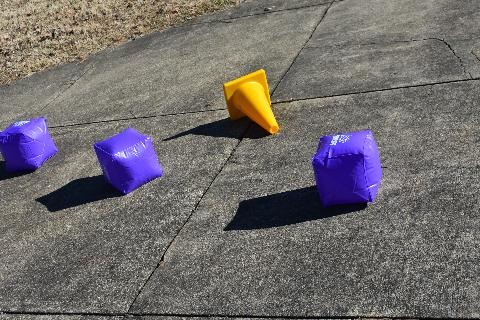cone: (222, 68, 280, 134)
cube: (311, 129, 383, 207), (93, 127, 164, 196), (1, 116, 60, 174)
